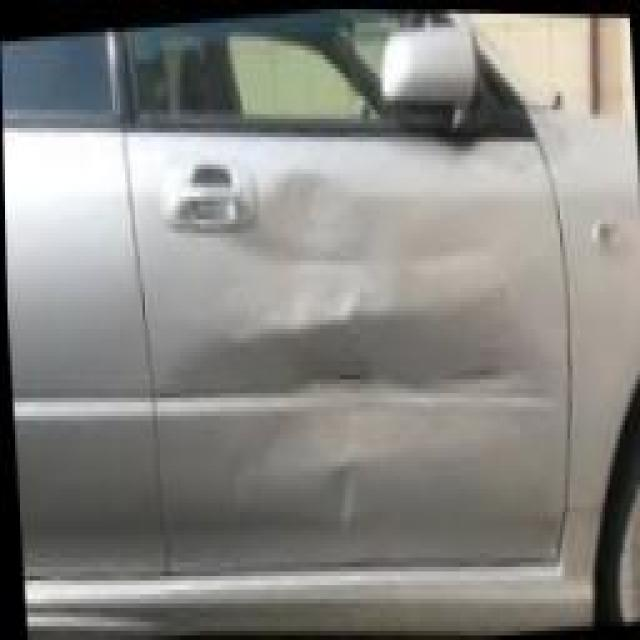rapairable: (305, 316, 422, 529), (243, 147, 383, 306)
